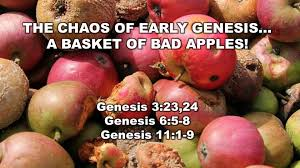apple: (201, 116, 268, 166)
damaged_apple: (160, 18, 237, 88), (43, 44, 124, 101), (29, 84, 99, 143), (33, 2, 116, 46), (96, 73, 154, 119), (227, 44, 267, 98), (256, 2, 297, 49), (135, 133, 183, 168), (77, 136, 130, 166)
